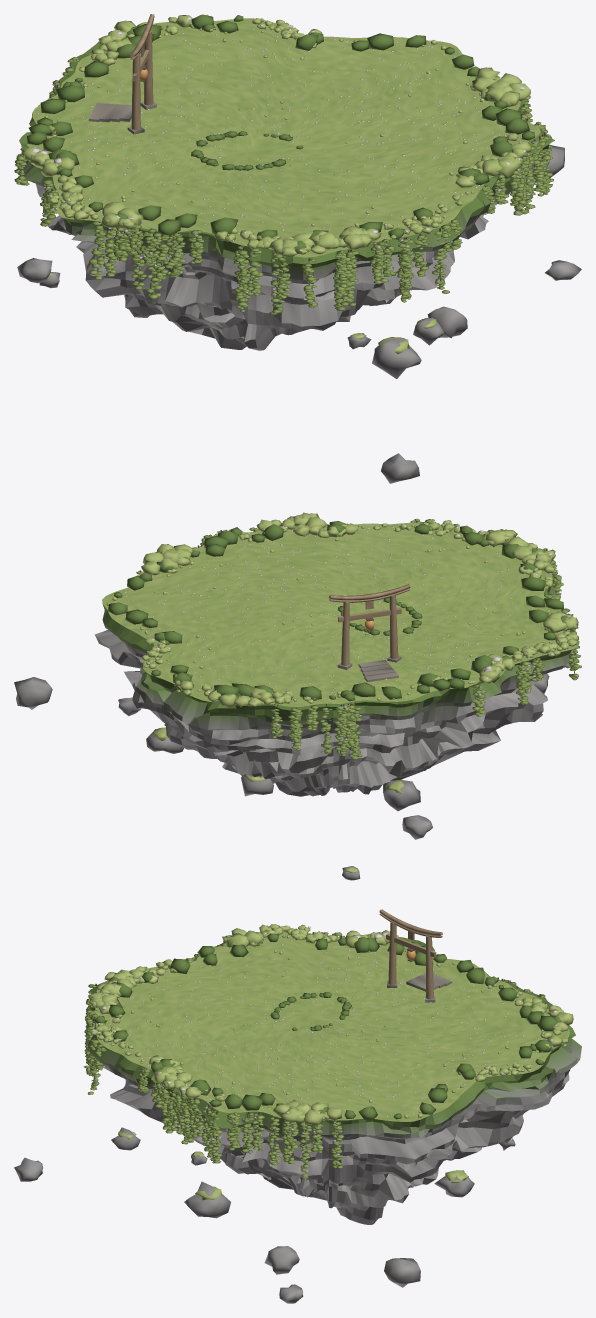
The model's file is meadow_c.glb.
3 renders of one model, top to bottom at view 1: azimuth 30°, elevation 25°; view 2: azimuth 150°, elevation 25°; view 3: azimuth 270°, elevation 25°, orthographic. The views are drawn at different scales.
Visible parts, largest first — view 1: Island, VineLeaves, RimShrubs, ScatterRocks, FloatRock, Flowers, Torii, ToriiSteps, VineStems, Tufts; view 2: Island, RimShrubs, ScatterRocks, VineLeaves, FloatRock, Torii, Flowers, ToriiSteps, Tufts; view 3: Island, RimShrubs, VineLeaves, ScatterRocks, FloatRock, Torii, Flowers, FloatGrass, VineStems.
Boxes of the visible parts, bbox=[...] form: Island: bbox=[19, 18, 554, 350]; VineLeaves: bbox=[14, 57, 553, 314]; RimShrubs: bbox=[21, 14, 531, 257]; ScatterRocks: bbox=[27, 14, 534, 253]; FloatRock: bbox=[17, 144, 581, 483]; Flowers: bbox=[37, 22, 532, 243]; Torii: bbox=[127, 14, 156, 134]; ToriiSteps: bbox=[88, 103, 131, 122]; VineStems: bbox=[22, 59, 546, 309]; Tufts: bbox=[44, 28, 503, 229]; Island: bbox=[94, 522, 578, 796]; RimShrubs: bbox=[141, 512, 578, 707]; ScatterRocks: bbox=[107, 521, 567, 701]; VineLeaves: bbox=[136, 518, 581, 759]; FloatRock: bbox=[14, 673, 549, 880]; Torii: bbox=[329, 584, 410, 669]; Flowers: bbox=[107, 524, 575, 701]; ToriiSteps: bbox=[358, 660, 398, 682]; Tufts: bbox=[106, 525, 551, 702]; Island: bbox=[87, 926, 581, 1224]; RimShrubs: bbox=[88, 924, 573, 1124]; VineLeaves: bbox=[83, 932, 545, 1178]; ScatterRocks: bbox=[93, 932, 561, 1119]; FloatRock: bbox=[14, 1127, 515, 1303]; Torii: bbox=[379, 909, 442, 1002]; Flowers: bbox=[100, 935, 547, 1116]; FloatGrass: bbox=[118, 1130, 512, 1200]; VineStems: bbox=[90, 932, 545, 1173].
Bounding box in the file's own units: 34.42 × 17.12 × 34.54.
